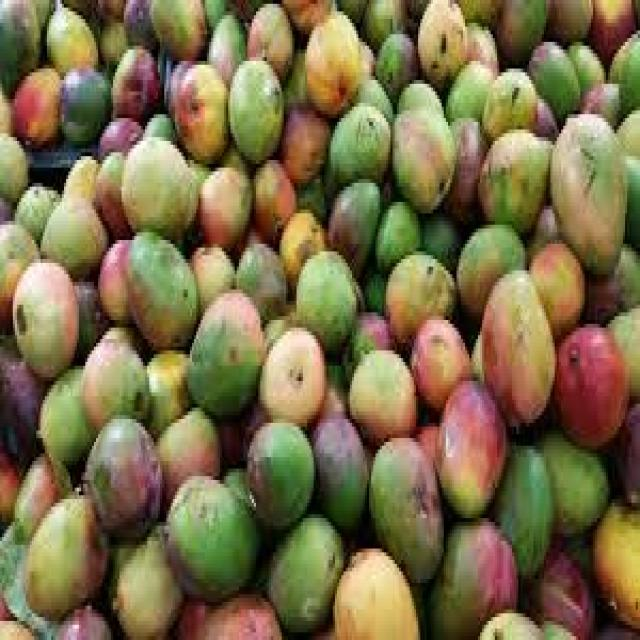mango: (186, 290, 267, 427)
